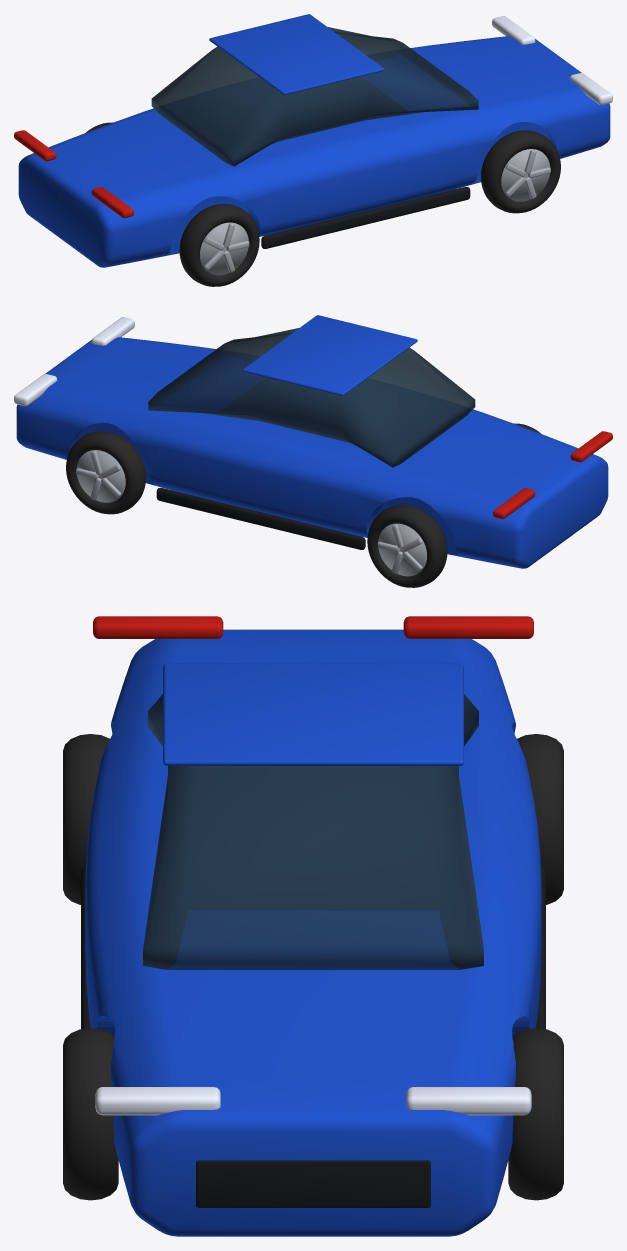
File: vehicle.glb
3 renders of one model, top to bottom at view 1: azimuth 30°, elevation 25°; view 2: azimuth 150°, elevation 25°; view 3: azimuth 270°, elevation 25°, orthographic. The views are drawn at different scales.
Parts seen in each view (by area): view 1: chassis, cabin_glass, roof, wheel_rear_left, wheel_front_left, side_sill_-1, wheel_front_left_rim, wheel_rear_left_rim, front_lamp_-1, front_lamp_1, rear_lamp_1, rear_lamp_-1; view 2: chassis, cabin_glass, roof, wheel_rear_right, wheel_front_right, side_sill_1, wheel_front_right_rim, wheel_rear_right_rim, front_lamp_1, front_lamp_-1, rear_lamp_-1, rear_lamp_1; view 3: chassis, cabin_glass, roof, front_grille, wheel_front_left, wheel_front_right, wheel_rear_left, wheel_rear_right, front_lamp_-1, front_lamp_1, rear_lamp_-1, rear_lamp_1 (+2 smaller).
Part boxes in pixels (x1,y1,x2,y2): chassis: [18, 36, 610, 267]; cabin_glass: [151, 27, 478, 166]; roof: [209, 14, 384, 94]; wheel_rear_left: [179, 204, 259, 286]; wheel_front_left: [481, 130, 560, 213]; side_sill_-1: [261, 187, 470, 248]; wheel_front_left_rim: [501, 149, 550, 201]; wheel_rear_left_rim: [200, 222, 248, 275]; front_lamp_-1: [569, 73, 612, 105]; front_lamp_1: [492, 16, 535, 44]; rear_lamp_1: [14, 130, 56, 161]; rear_lamp_-1: [91, 187, 133, 218]; chassis: [16, 337, 608, 568]; cabin_glass: [148, 328, 475, 467]; roof: [242, 315, 417, 395]; wheel_rear_right: [367, 505, 447, 587]; wheel_front_right: [66, 431, 145, 514]; side_sill_1: [156, 488, 365, 549]; wheel_front_right_rim: [76, 450, 125, 502]; wheel_rear_right_rim: [378, 523, 426, 576]; front_lamp_1: [14, 374, 57, 406]; front_lamp_-1: [91, 317, 134, 345]; rear_lamp_-1: [570, 431, 612, 462]; rear_lamp_1: [493, 488, 535, 519]; chassis: [85, 629, 541, 1236]; cabin_glass: [143, 694, 483, 969]; roof: [163, 663, 463, 765]; front_grille: [196, 1160, 430, 1207]; wheel_front_left: [63, 1028, 118, 1200]; wheel_front_right: [508, 1028, 563, 1200]; wheel_rear_left: [63, 734, 109, 904]; wheel_rear_right: [517, 734, 563, 904]; front_lamp_-1: [95, 1087, 220, 1115]; front_lamp_1: [406, 1087, 531, 1115]; rear_lamp_-1: [93, 616, 223, 638]; rear_lamp_1: [403, 616, 533, 638].
Size of the model in its own units: 4.21 by 1.25 by 1.8.
